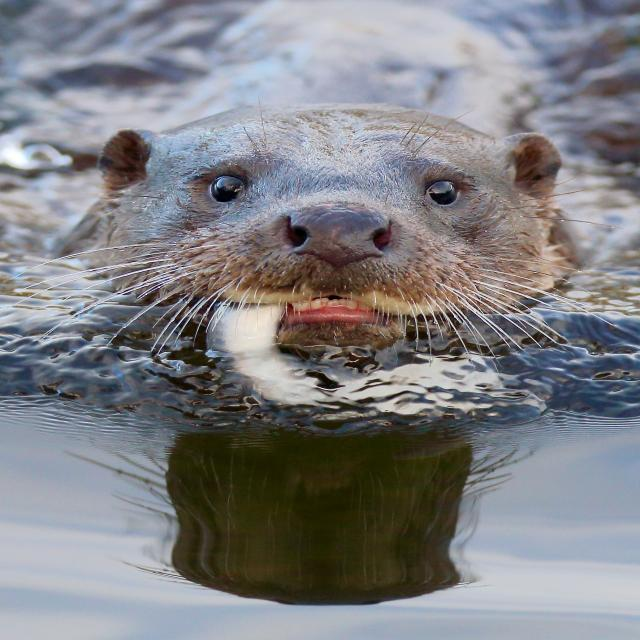otter: (59, 104, 580, 348)
